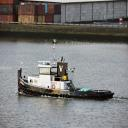tugboat: (18, 40, 116, 103)
